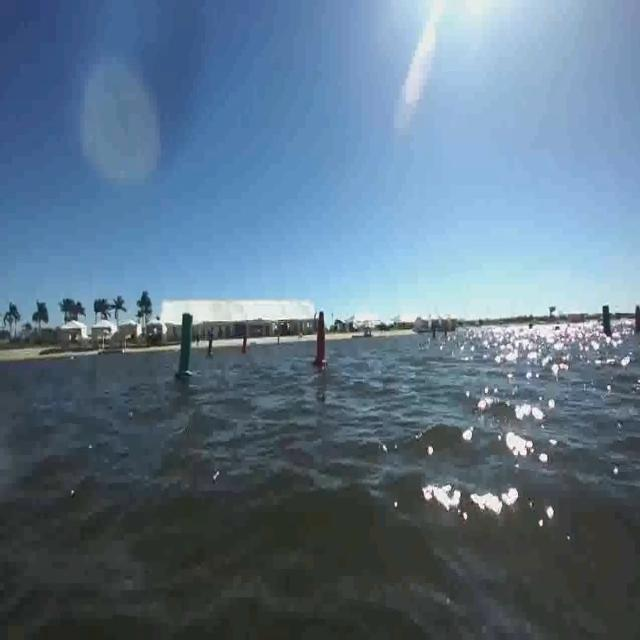green-column-buoy: (174, 311, 196, 381), (599, 304, 614, 338), (206, 331, 216, 359)
red-column-buoy: (312, 311, 330, 369), (632, 304, 640, 335), (239, 331, 248, 355)
